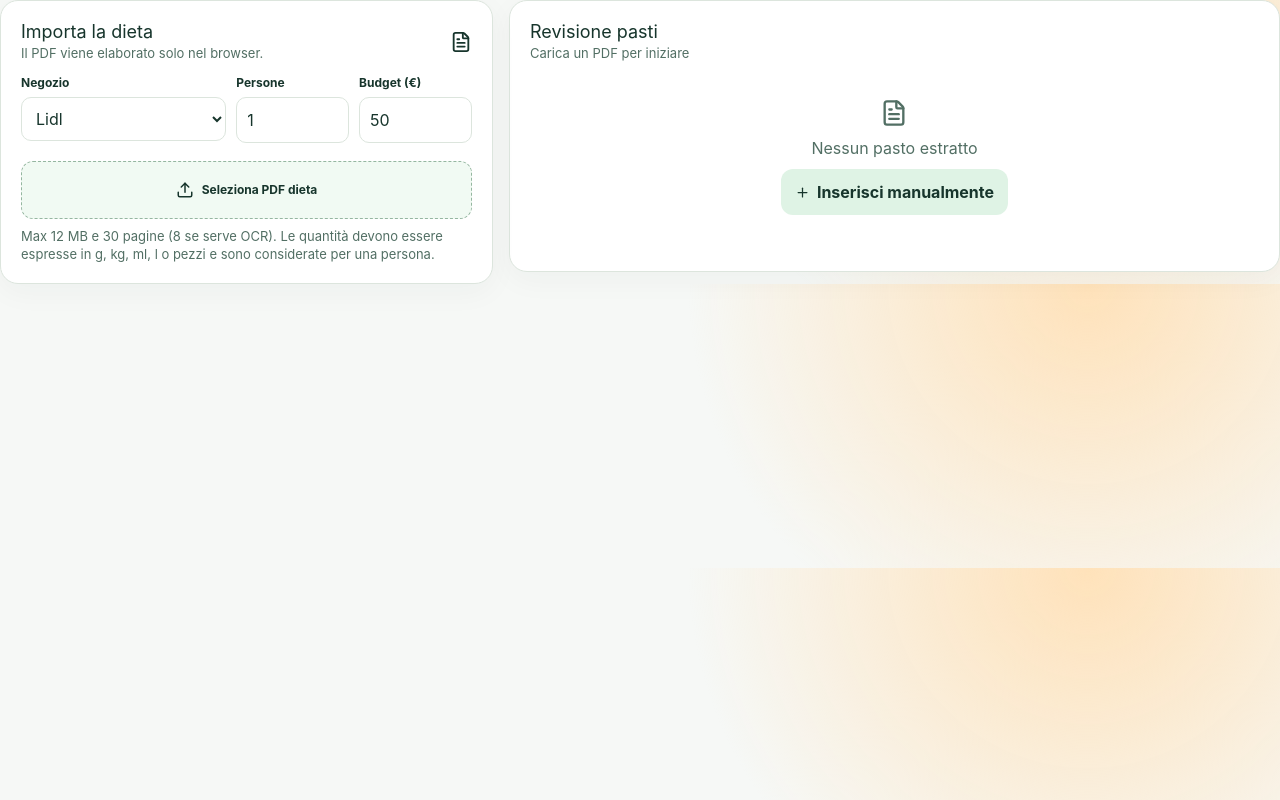
Test case: DietImporter › accetta il campo persone vuoto e mostra una validazione
Click the button "Inserisci manualmente".
click(894, 192)  # box [781,169,1008,215]
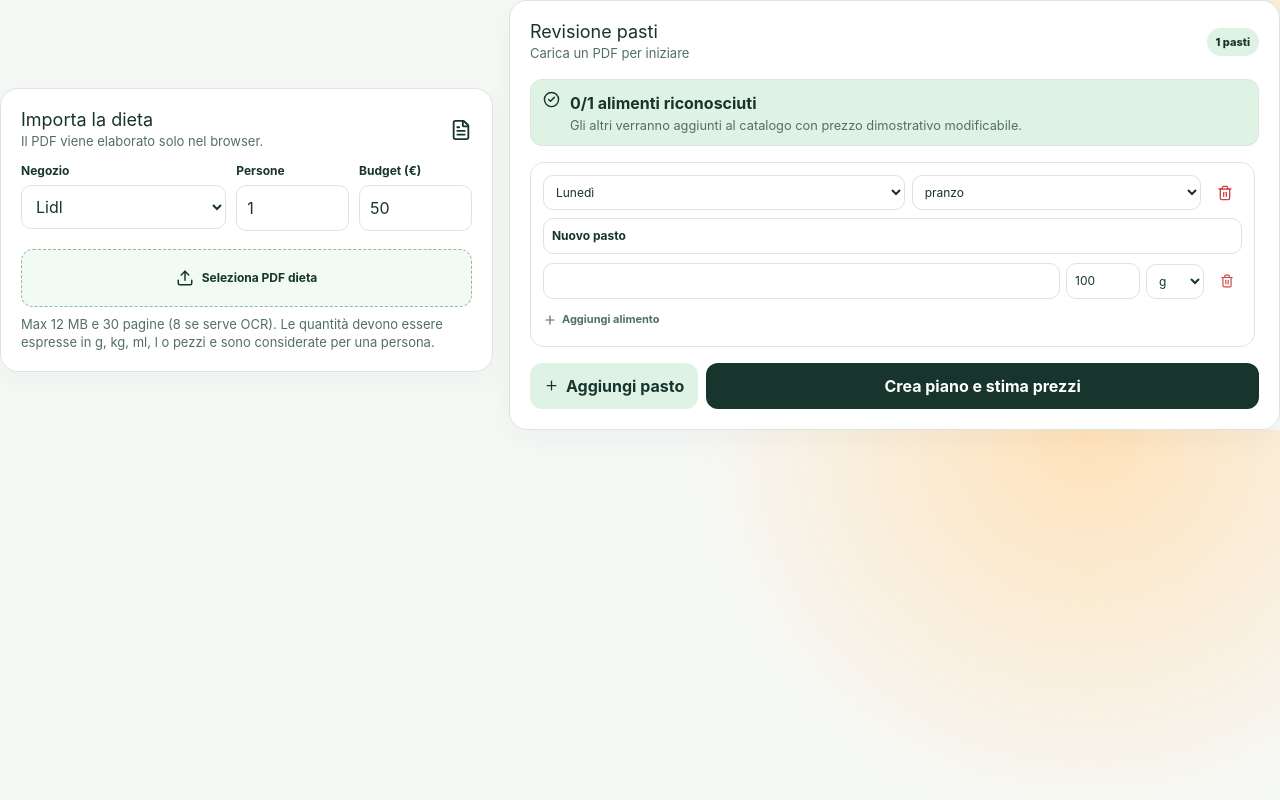
Clear the number field labelled "Persone" at (293, 208), box [236,185,349,231]
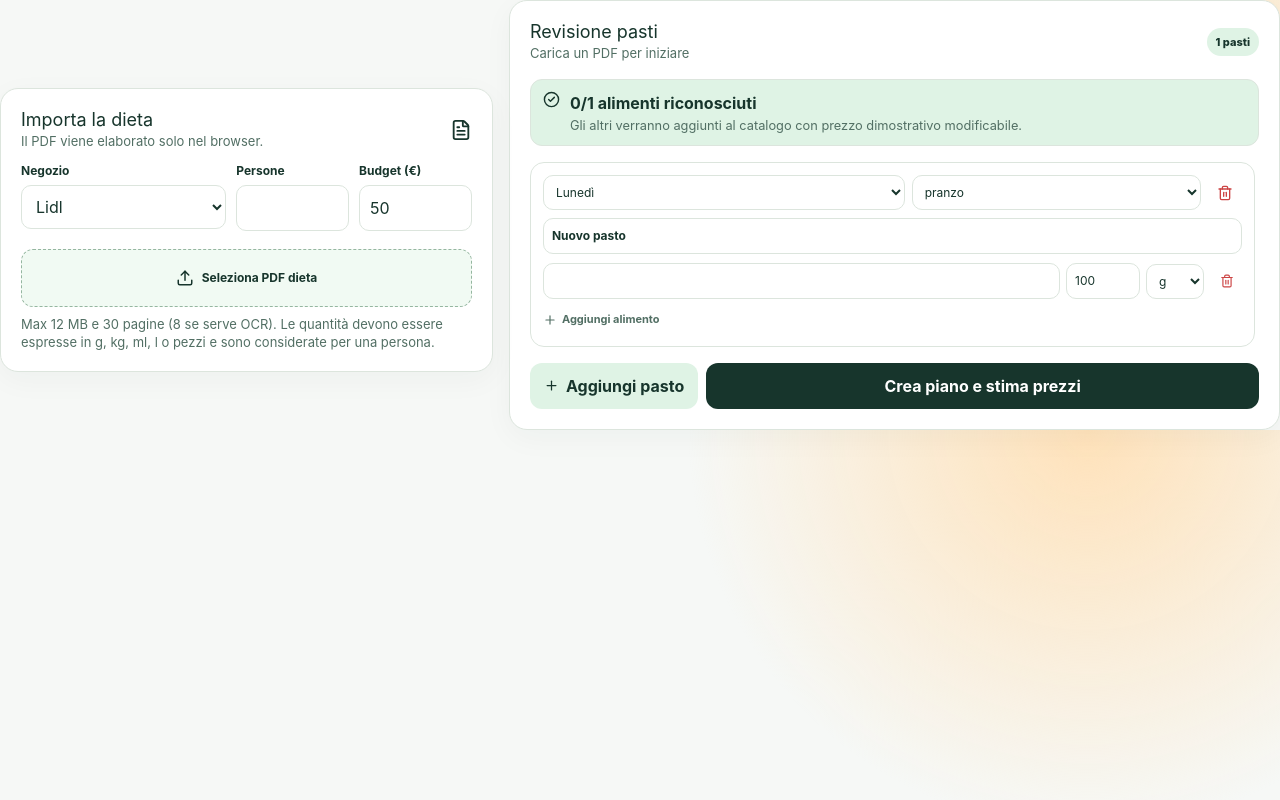
Click the button "Crea piano e stima prezzi".
click(983, 386)  # box [706,363,1259,409]
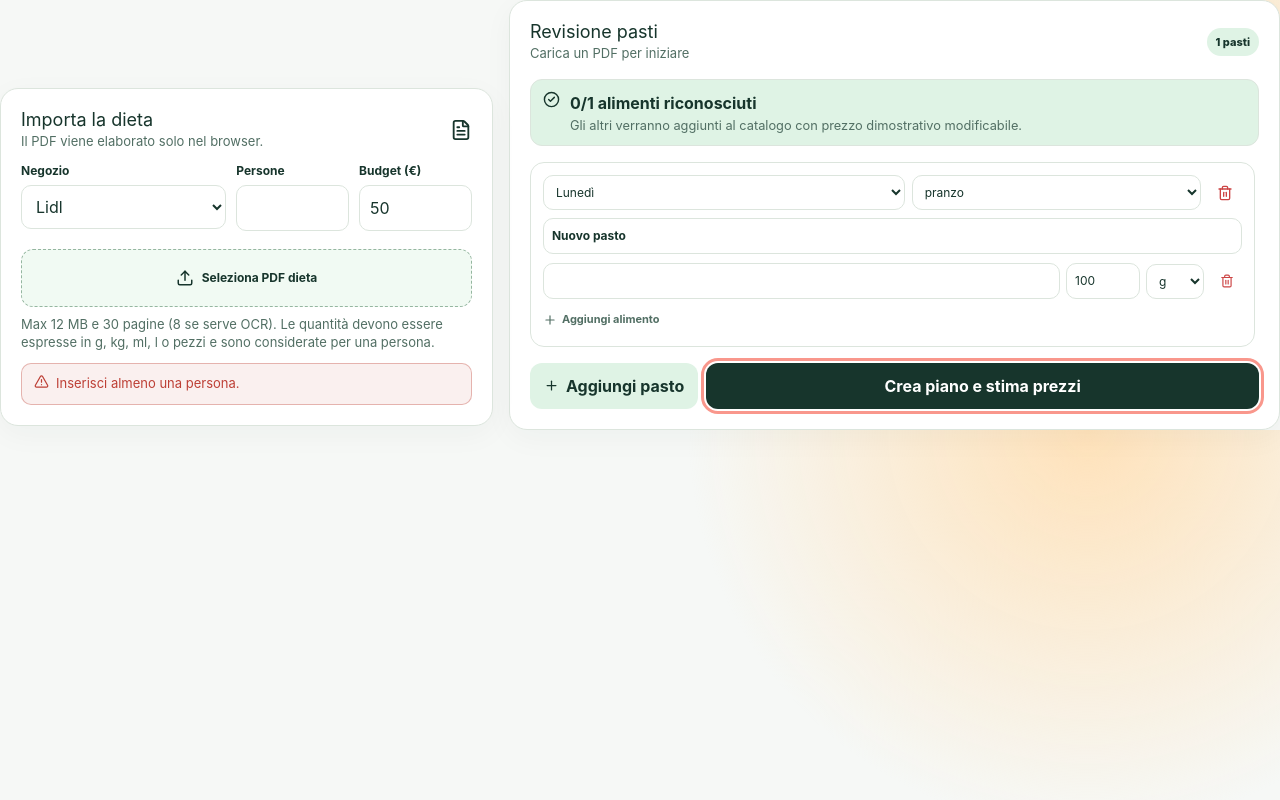
Now the message reads "Inserisci almeno una persona.", box [56,375,240,391]
